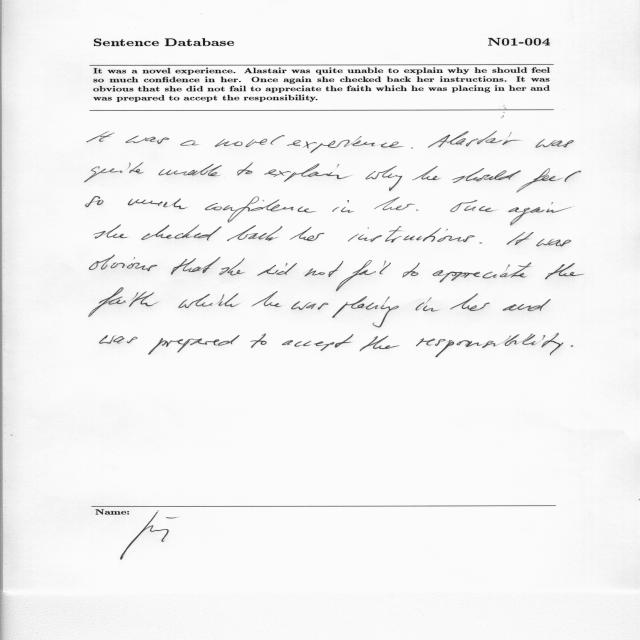word: (416, 334, 563, 358), (205, 197, 317, 223), (348, 226, 475, 243), (332, 296, 399, 327), (89, 288, 158, 317), (433, 263, 532, 283), (287, 136, 403, 153), (148, 335, 240, 355), (336, 260, 391, 291), (516, 168, 581, 193), (428, 131, 520, 148), (264, 164, 350, 182), (508, 202, 572, 226), (141, 225, 222, 240), (282, 334, 353, 351), (85, 163, 144, 183), (90, 255, 158, 271), (452, 168, 521, 183), (179, 293, 240, 308), (366, 166, 402, 191), (171, 257, 221, 275), (227, 225, 282, 241), (215, 135, 284, 147), (159, 164, 222, 176), (450, 293, 490, 311), (128, 199, 188, 210), (305, 261, 344, 277), (545, 263, 584, 279), (360, 336, 400, 351), (503, 299, 551, 311), (450, 200, 496, 212), (374, 197, 415, 210), (257, 263, 297, 276), (252, 291, 282, 307), (94, 225, 128, 239), (290, 227, 324, 241), (219, 258, 245, 276), (126, 135, 170, 144), (413, 166, 441, 180), (416, 297, 440, 312), (535, 139, 574, 148), (507, 232, 534, 245), (100, 335, 138, 344), (292, 301, 329, 310), (87, 131, 114, 142), (332, 200, 354, 213), (537, 239, 572, 247), (402, 263, 420, 278), (250, 333, 267, 348), (85, 196, 104, 207), (237, 163, 253, 176), (181, 140, 200, 146), (416, 209, 419, 211), (480, 242, 483, 244), (571, 345, 573, 347), (411, 148, 413, 149)
